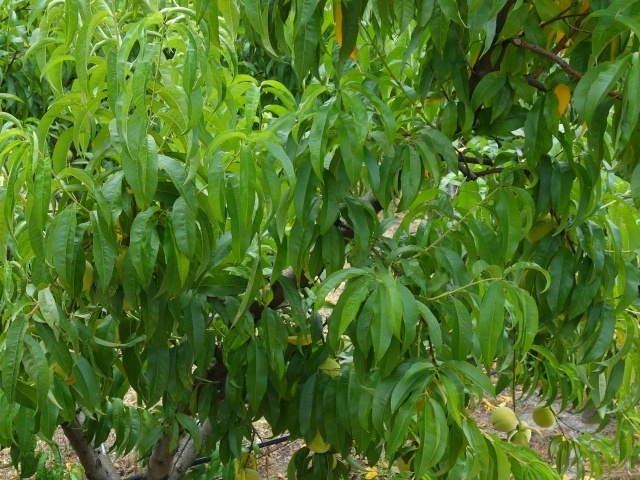peach: (490, 403, 520, 437), (529, 400, 557, 430), (306, 428, 333, 458), (508, 416, 532, 446)
